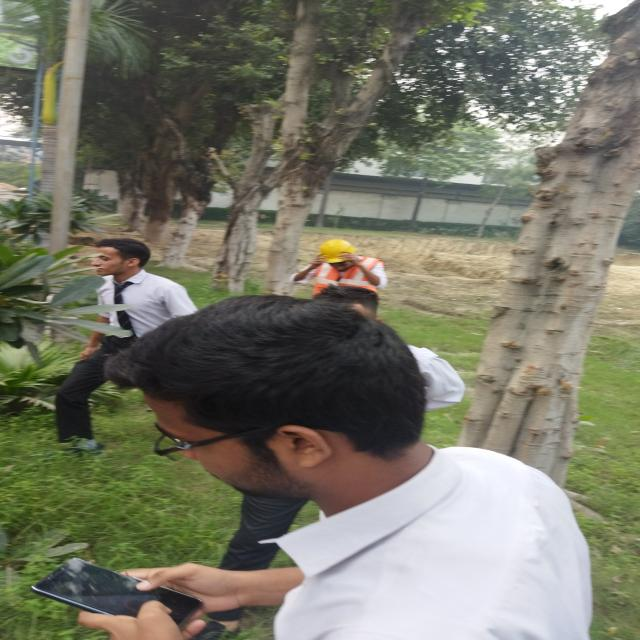safe: (298, 239, 390, 316)
unsafe: (117, 297, 599, 640), (72, 237, 188, 454)
